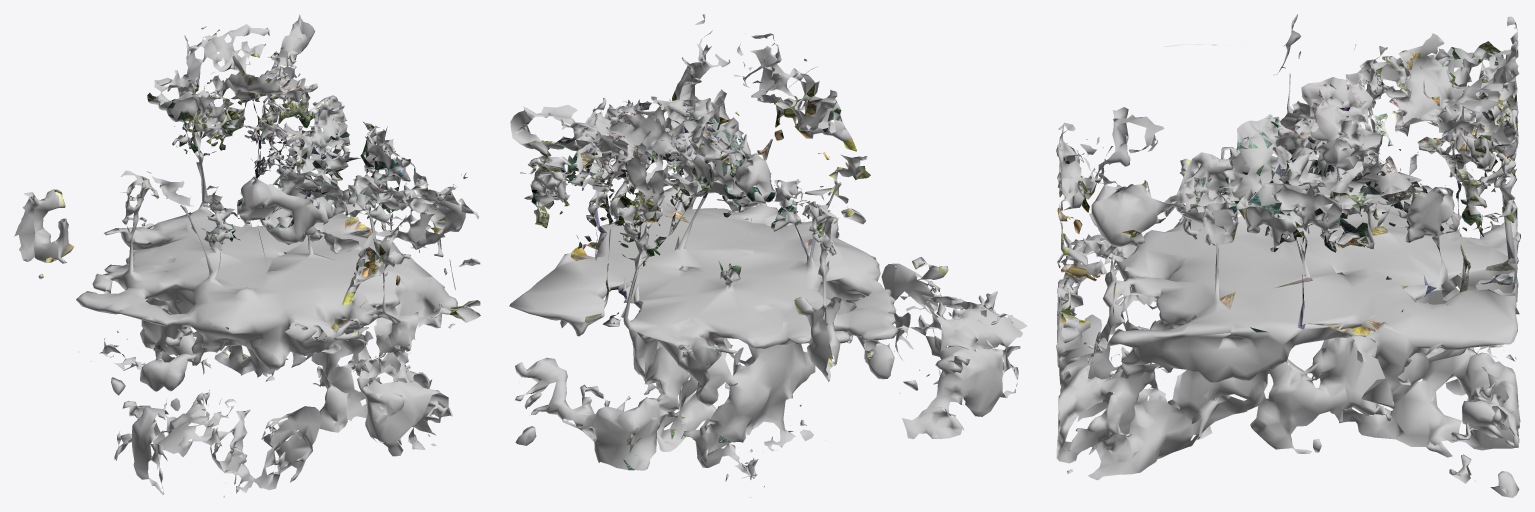
Rendered from mesh_lowpoly.obj.
3 renders of one model, left to right at view 1: azimuth 30°, elevation 25°; view 2: azimuth 150°, elevation 25°; view 3: azimuth 270°, elevation 25°, orthographic. The views are drawn at different scales.
Size of the model in its own units: 4.06 by 3.94 by 4.06.
